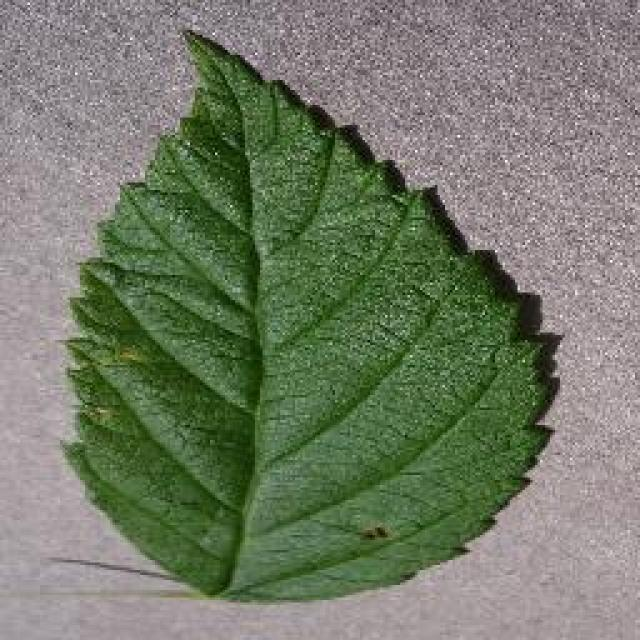Ras_healthy: (80, 114, 516, 586)
